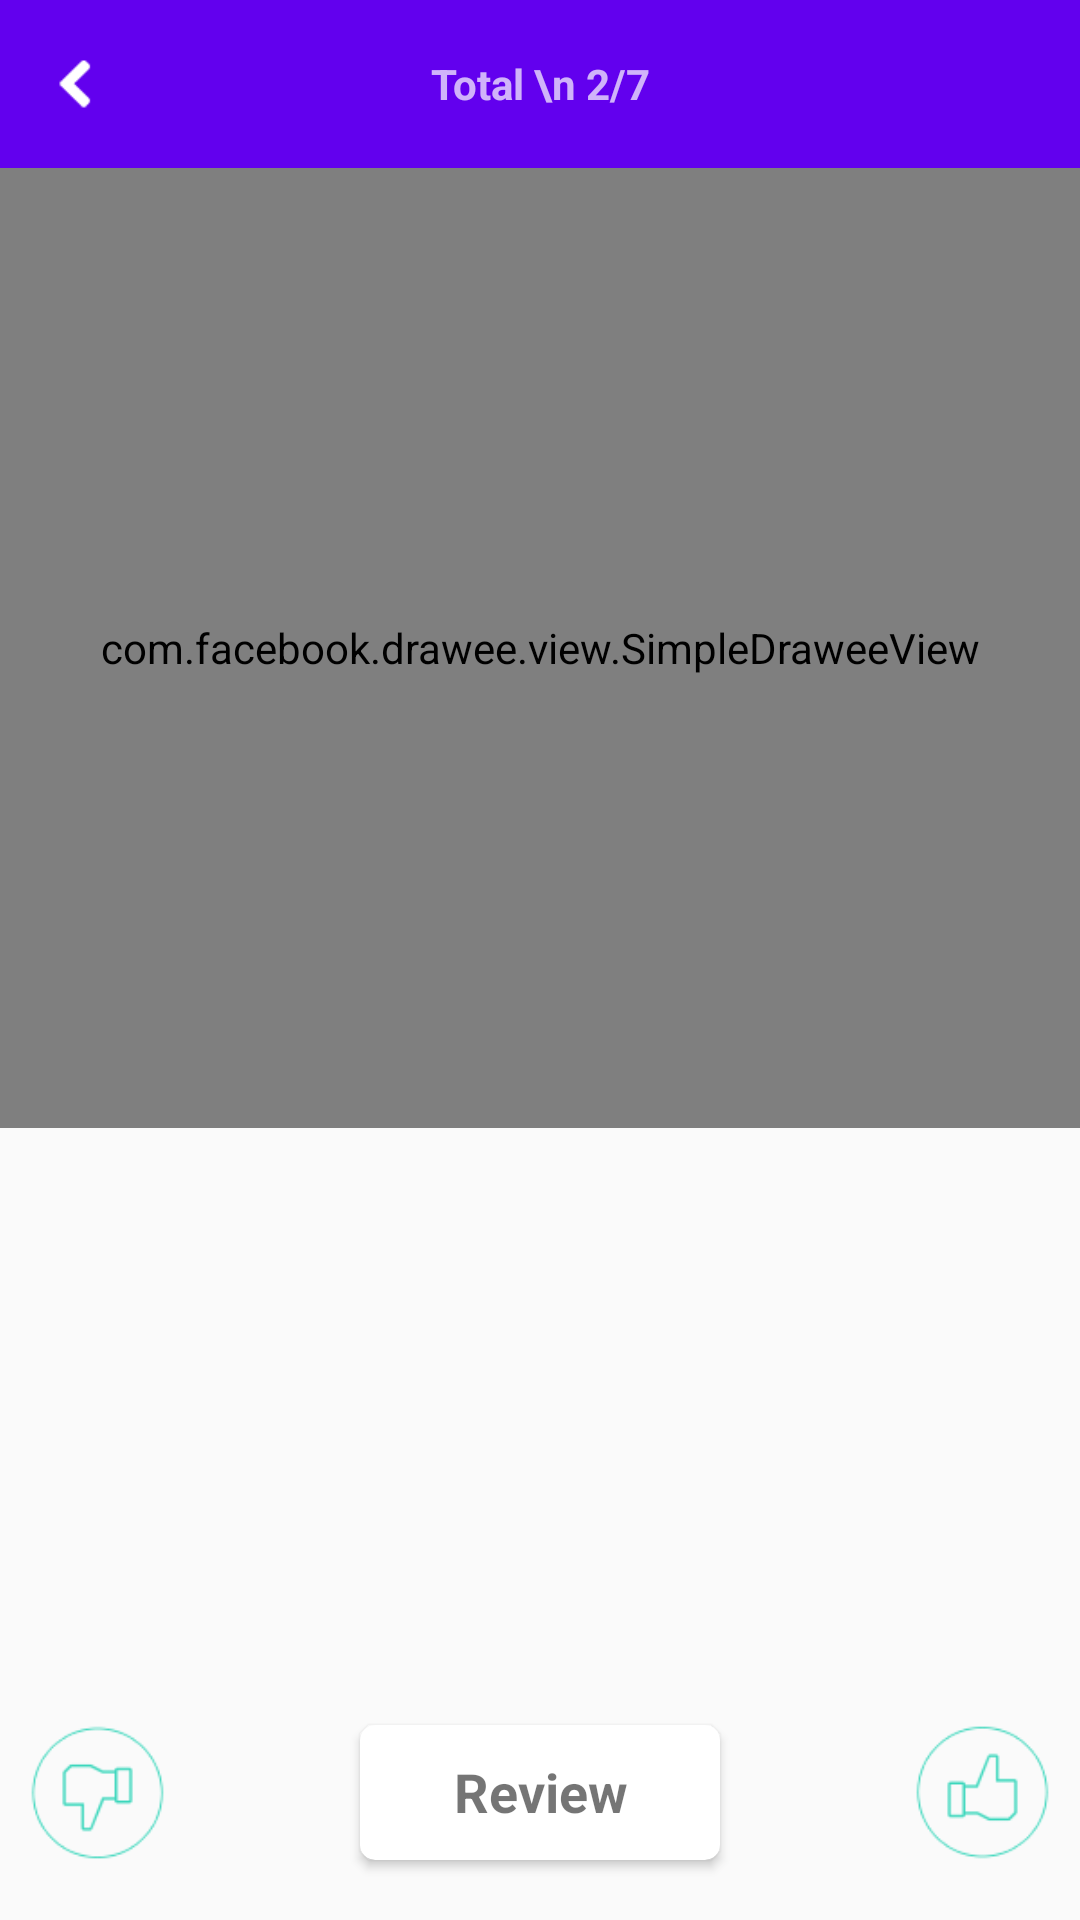

Screen size 1080x1920. Icon name, then its box in pixels as (x1, y1, x2, y2):
back: (59, 60, 91, 108)
